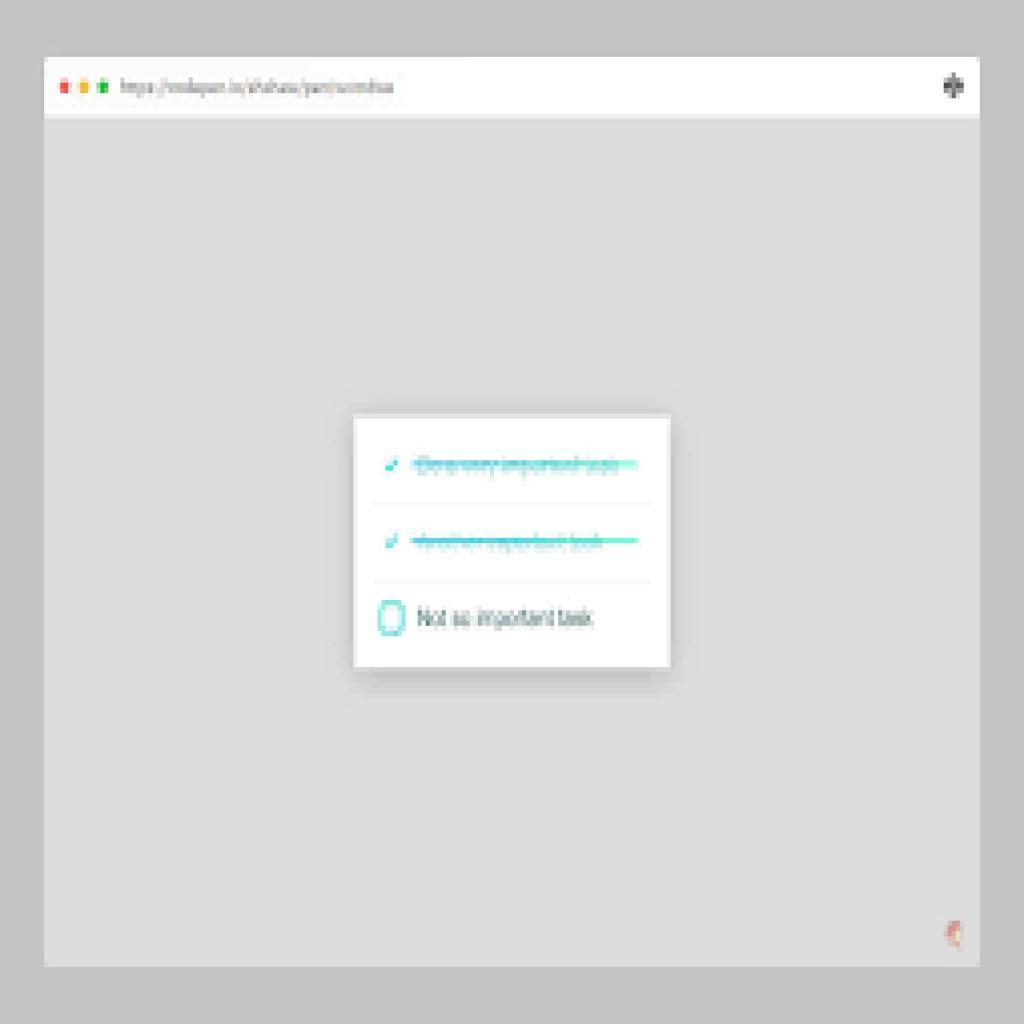checkbox: (378, 600, 409, 639)
label: (417, 601, 598, 634)
